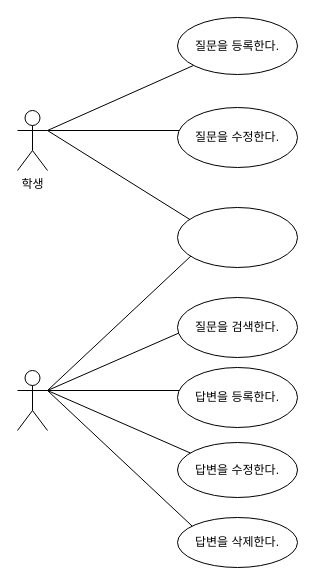
The diagram is 315 pixels wide and 585 high, and some of its shapes have lost their labels. Here are the shapes that lost their labels. From the top down, the centre of each, then its label:
At (x=237, y=237): "질문을 삭제한다.".
At (x=32, y=400): "교수".
